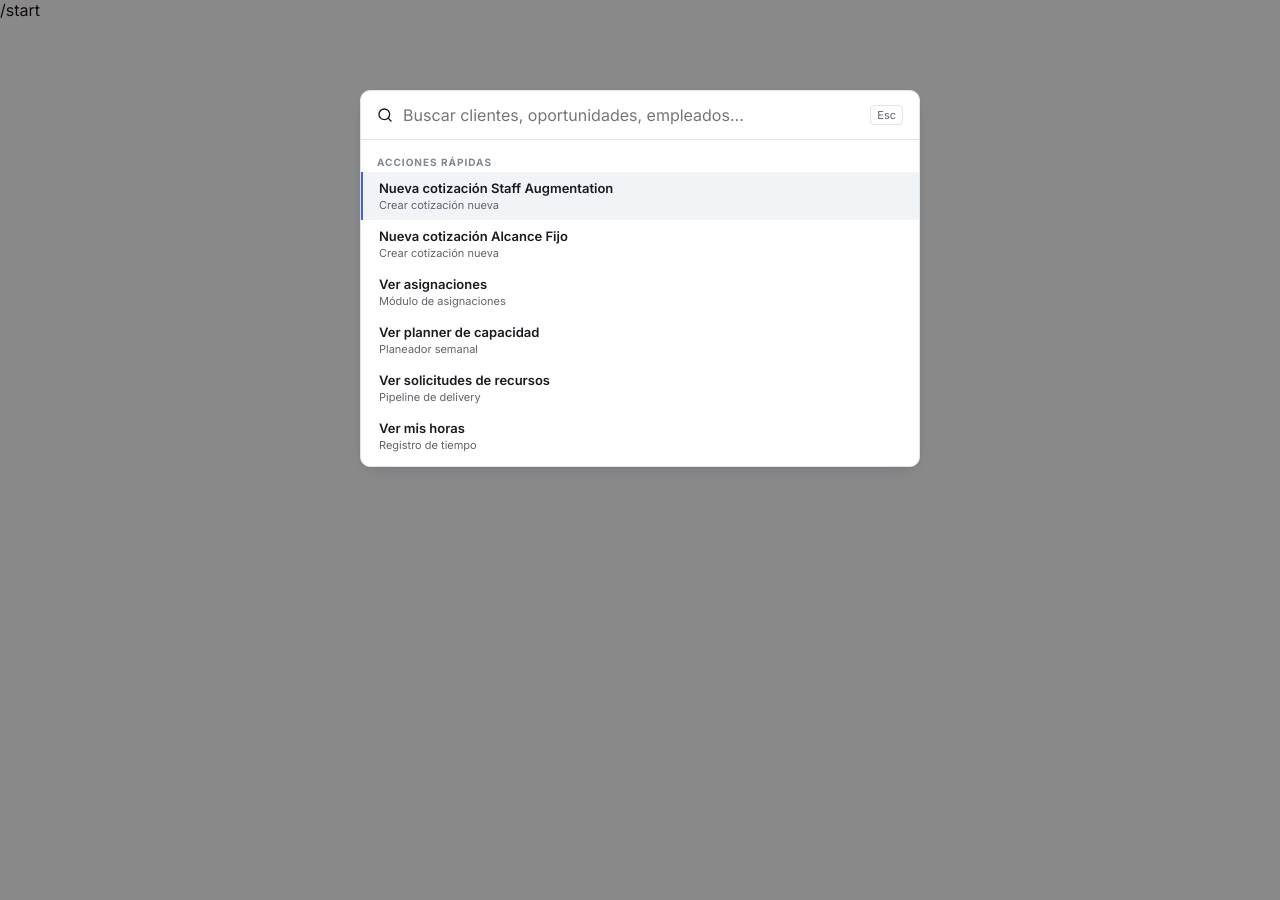
Test case: CommandPalette › shows empty state when the endpoint returns no results
Type "xyz" into the search field with test id "cmdp-input" at (632, 115), box left=403, top=105, right=860, bottom=125
Wait 250 ms
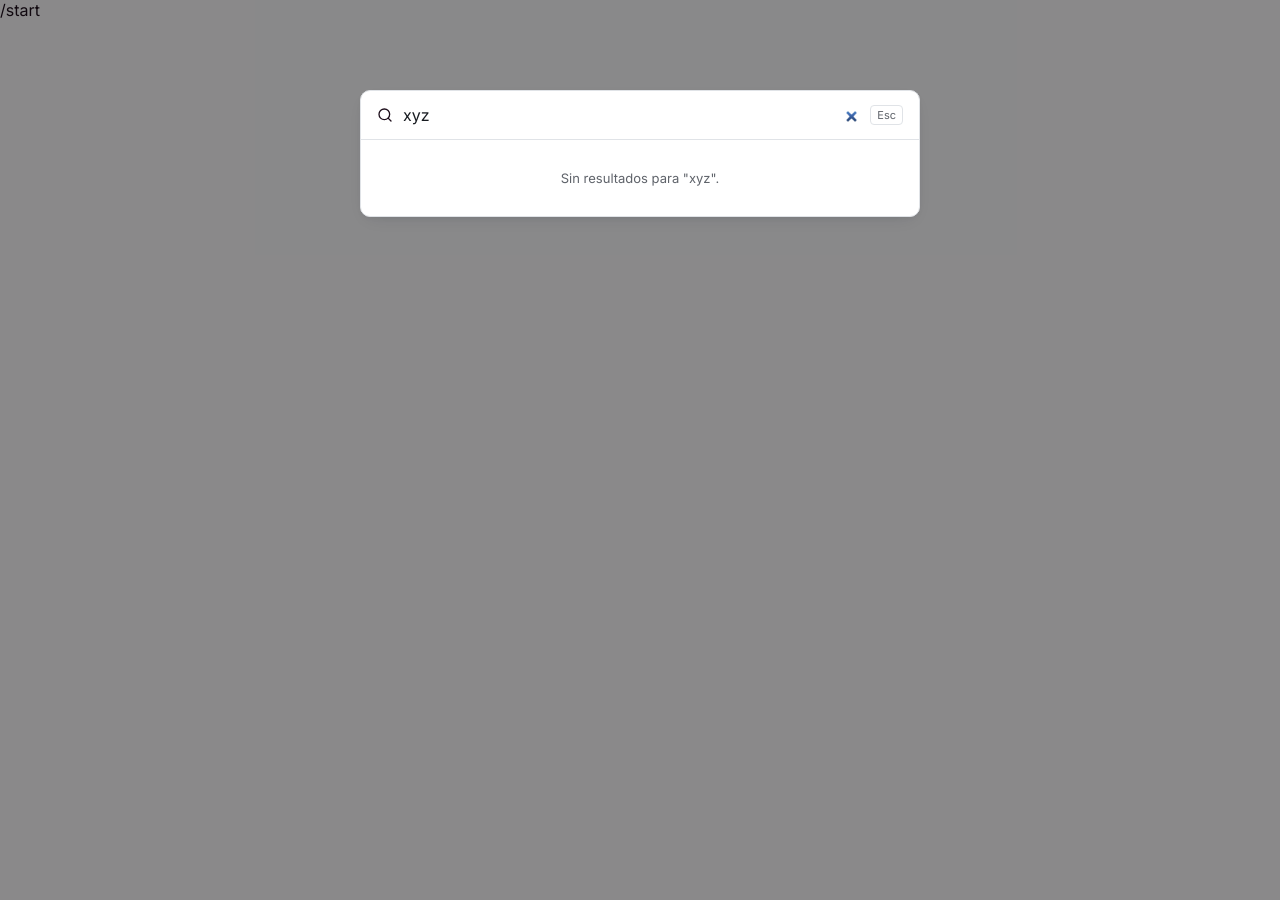
Result: the text "Sin resultados para \"xyz\"." is shown at left=561, top=170, right=719, bottom=186
